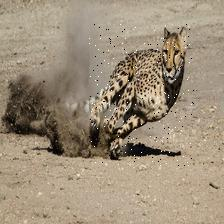Cheetha: (90, 24, 195, 166)
